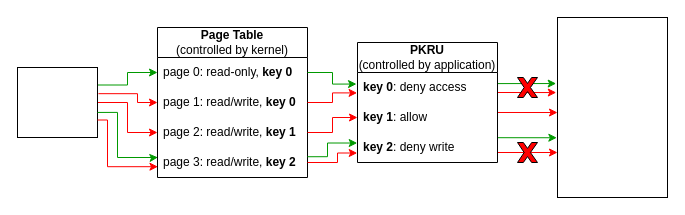
Some shapes in this 685 by 215 pixel diagram are drawn without their labels. Each missing label, with the centre of its shape:
"Application" goes at (x=57, y=102).
"Physical Memory" goes at (x=612, y=107).
